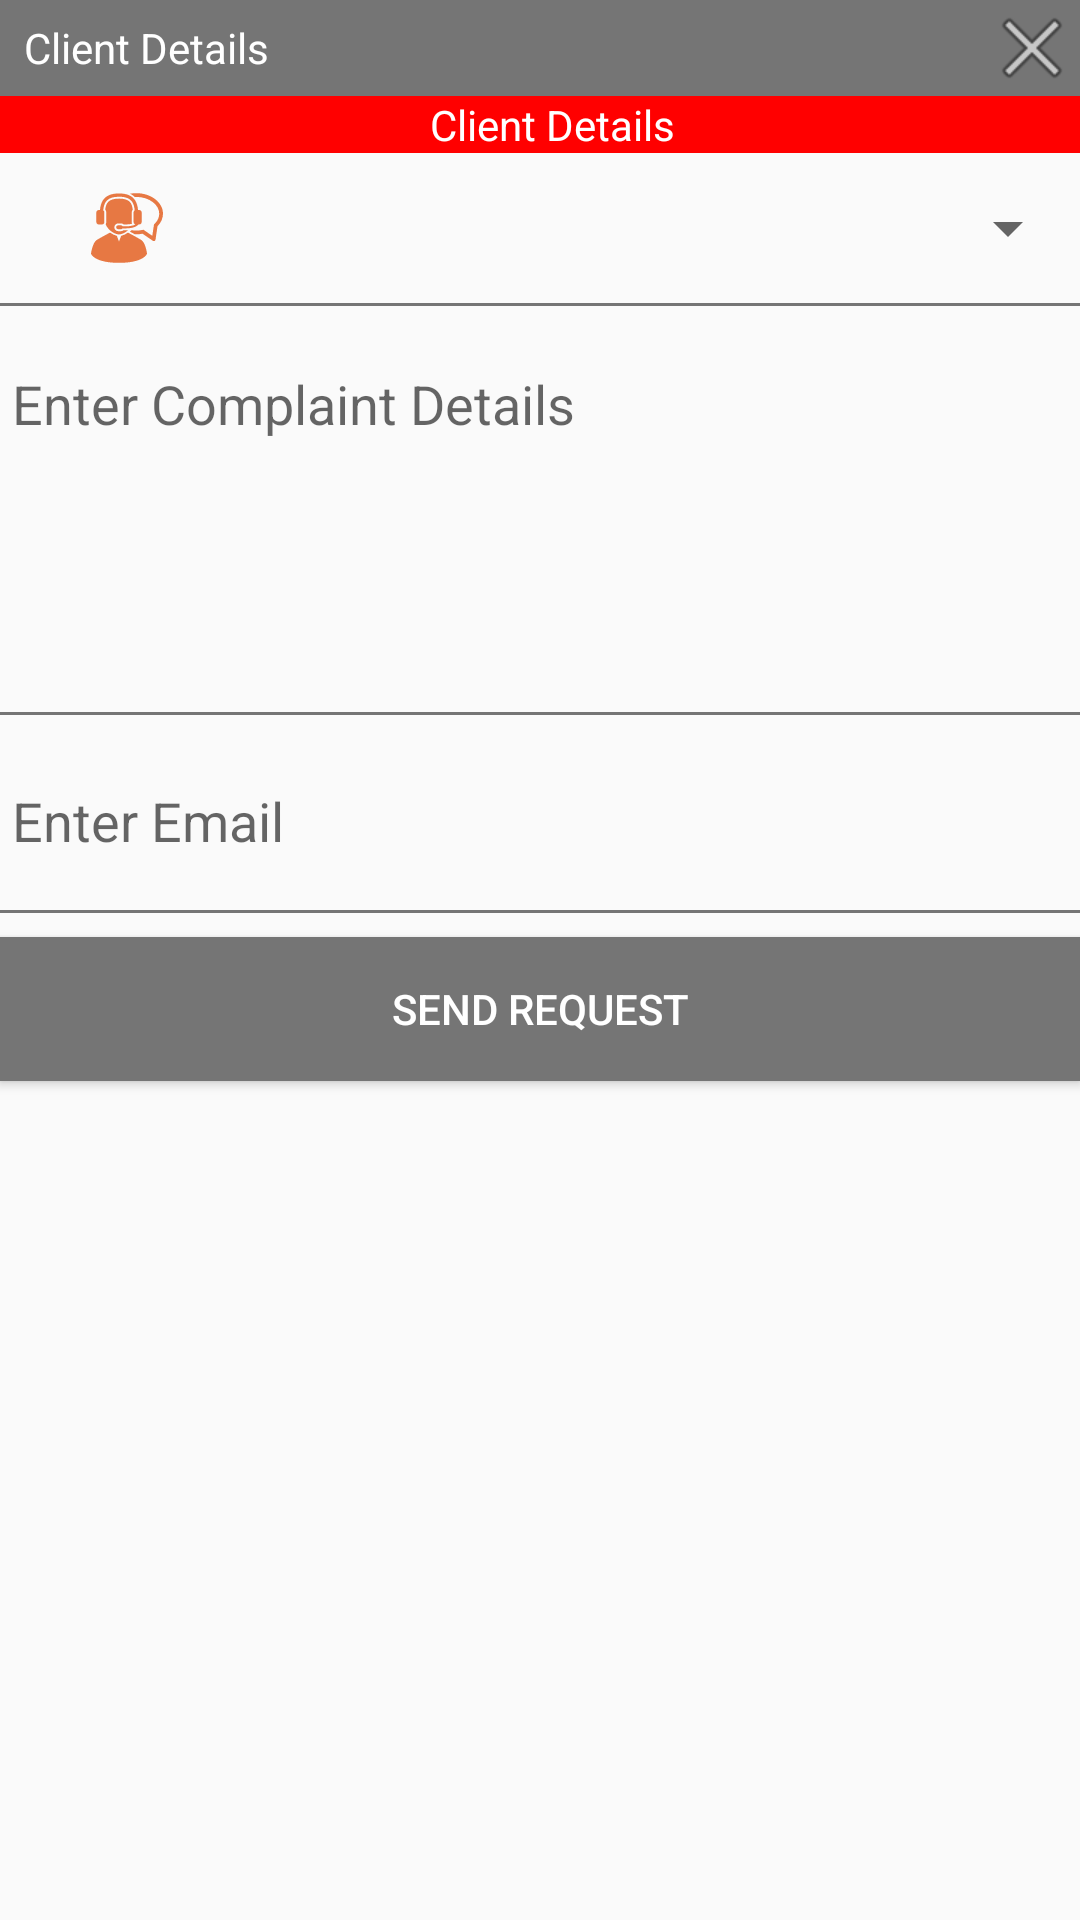

Point at icon controls on the screen. Image size 1080x1920, points as (x=x, y=y).
complaints: (x=127, y=228)
